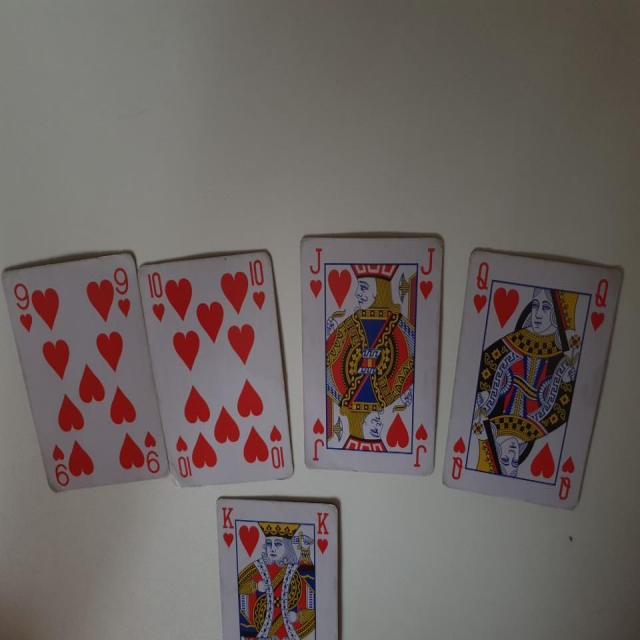10 Hearts: (137, 244, 296, 496)
9 Hearts: (1, 236, 183, 500)
J Hearts: (293, 216, 448, 485)
K Hearts: (213, 489, 346, 640)
Q Hearts: (428, 242, 631, 514)
